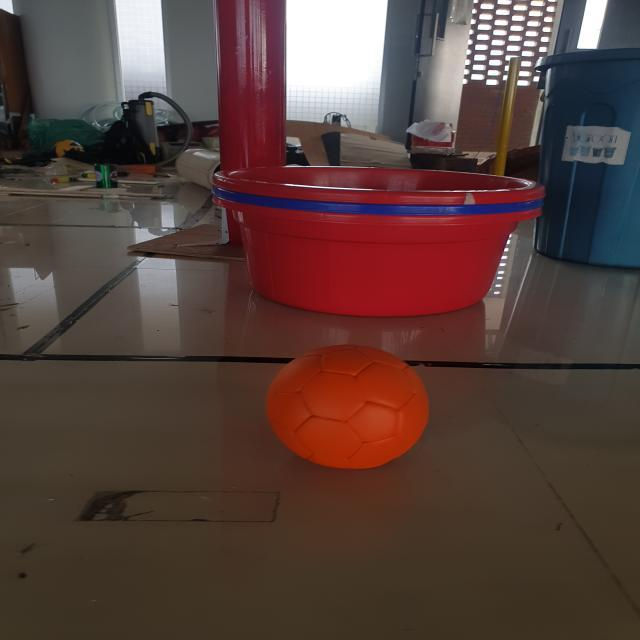bola: (260, 342, 432, 471)
